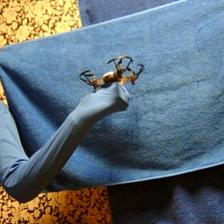drone: (78, 52, 146, 92)
